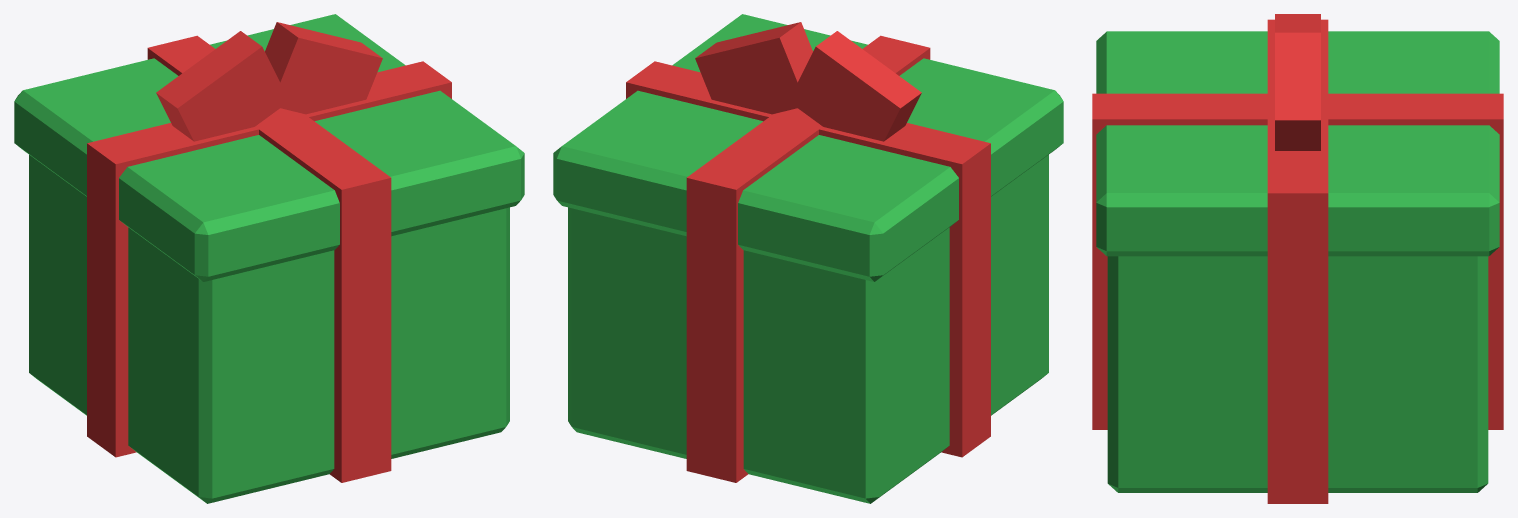
Rendered from GreenGift.fbx.
3 views of the same model, side by side, from view 1: azimuth 30°, elevation 25°; view 2: azimuth 150°, elevation 25°; view 3: azimuth 270°, elevation 25° (orthographic). The views are drawn at different scales.
Visible parts, largest first — view 1: GreenGift; view 2: GreenGift; view 3: GreenGift.
Part boxes in pixels (x1,y1,x2,y2): GreenGift: [14, 14, 524, 503]; GreenGift: [553, 14, 1063, 503]; GreenGift: [1092, 14, 1503, 503].
Size of the model in its own units: 1.94 by 2.05 by 1.94.
Materials: 1 (1 with a texture image).
